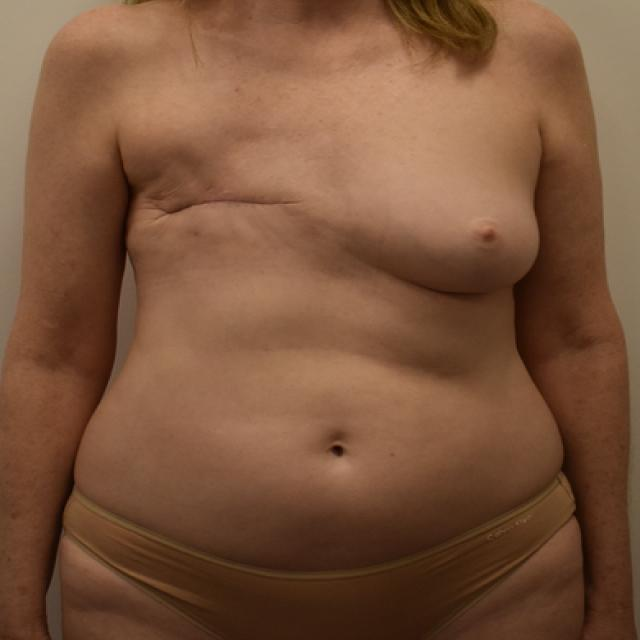Seno herido: (114, 126, 326, 298)
Seno ileso: (337, 126, 546, 309)
